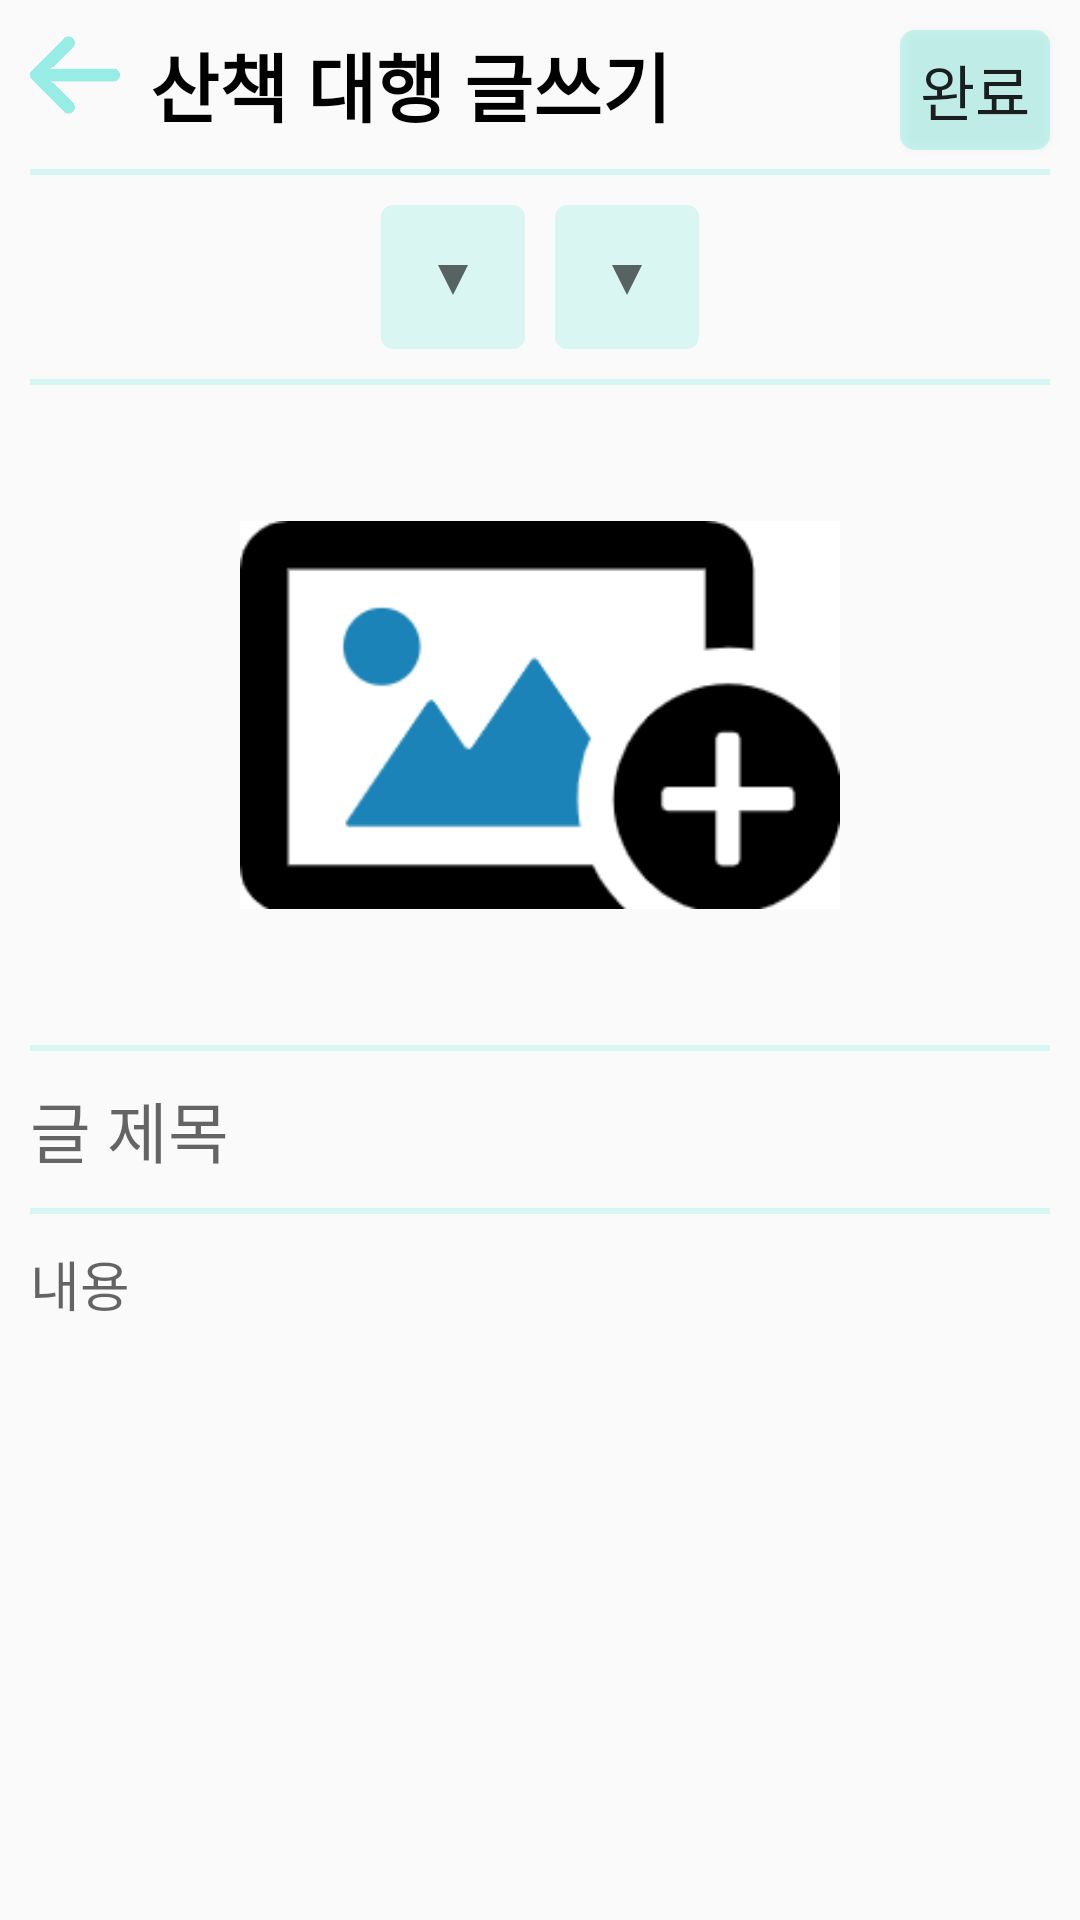

Named icons in this screenshot (1080 × 1920) and their centers, (x=x, y=y):
back: (x=75, y=75)
